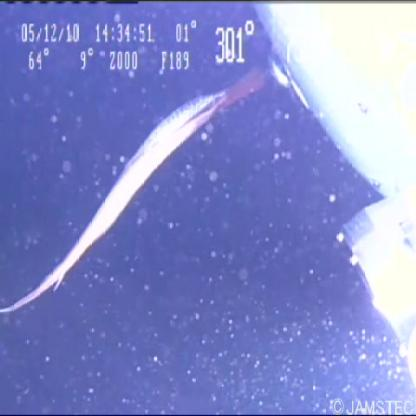Bio: (1, 58, 275, 315)
